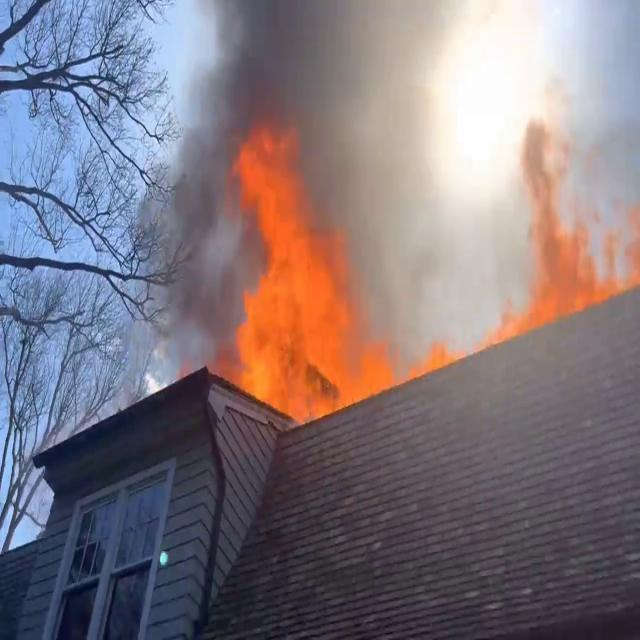Fire: (217, 125, 384, 415)
Smoke: (140, 0, 452, 290), (502, 53, 607, 322)
